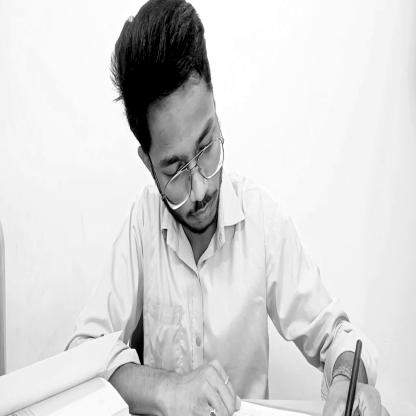Distracted: (113, 3, 225, 246)
